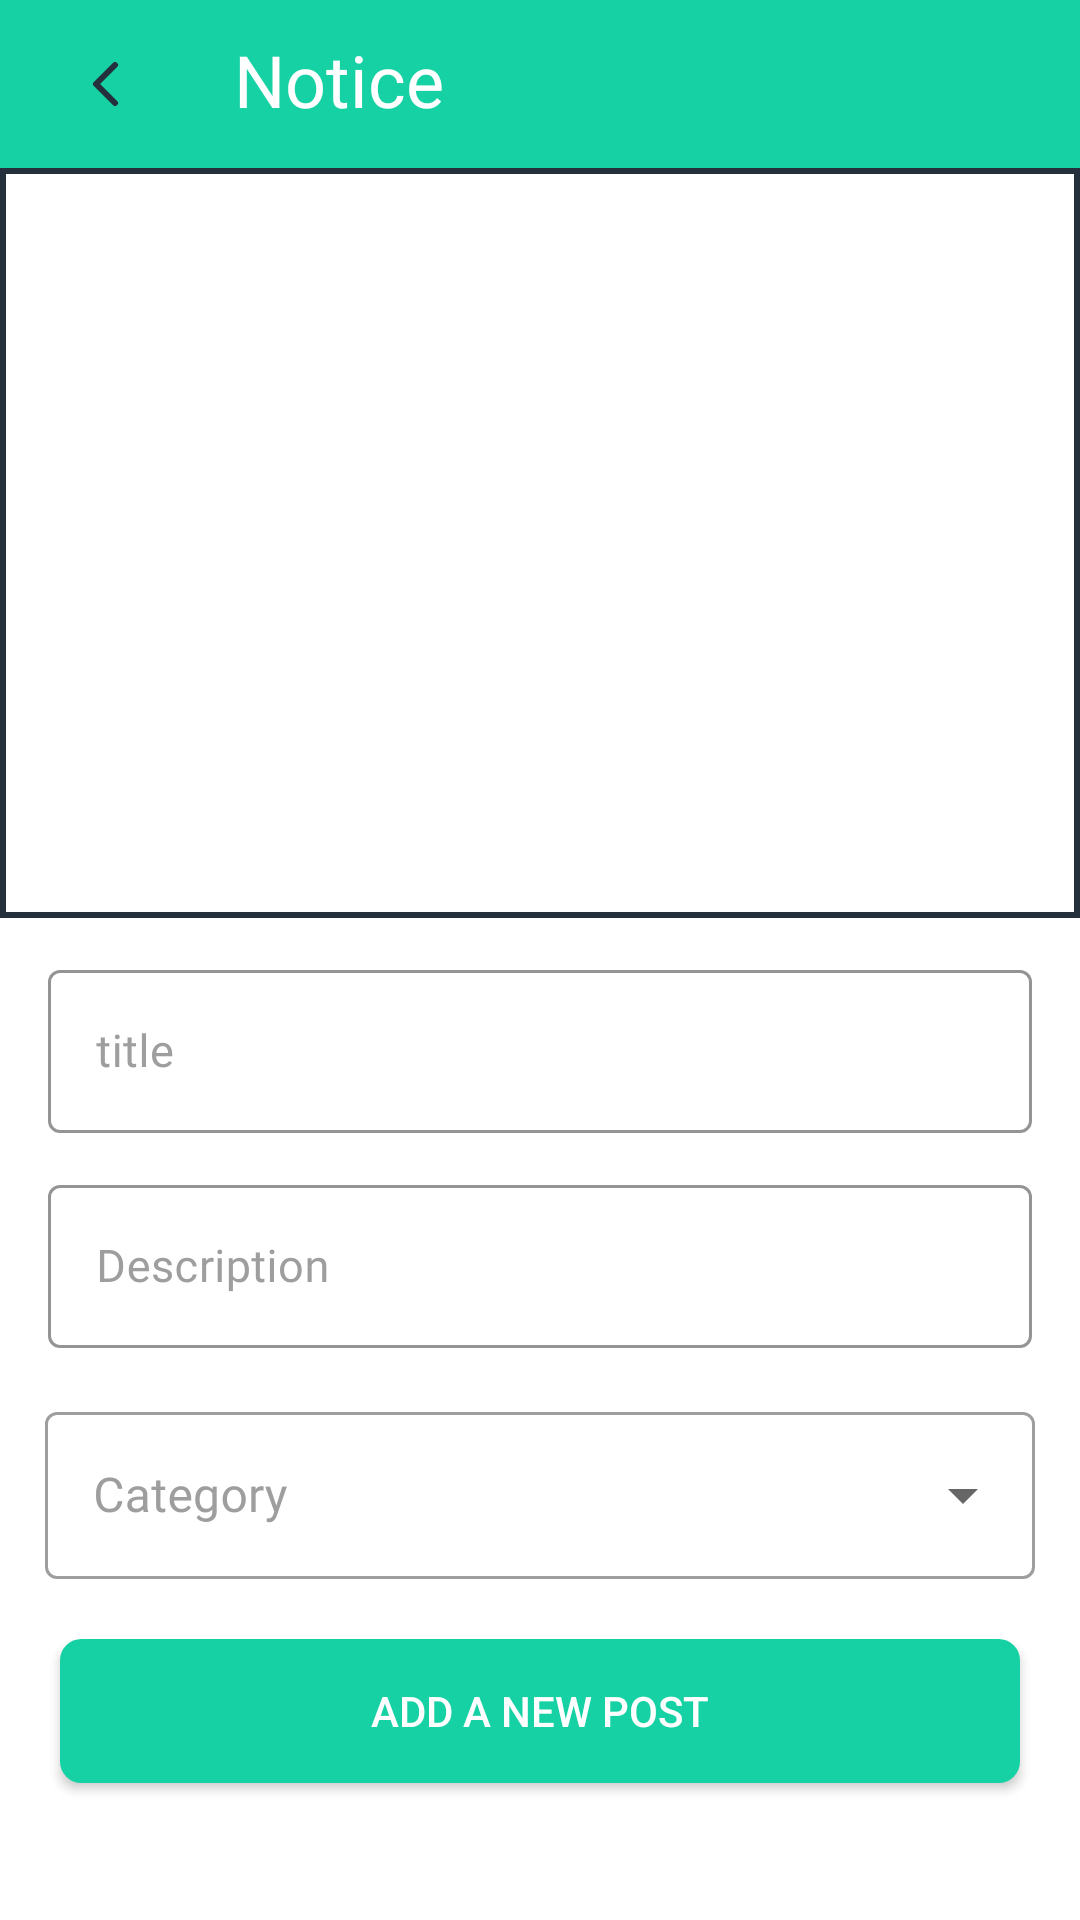

Where to tap for icons on this 1080px×1920px app screen, as point (x, y):
back: point (105, 84)
